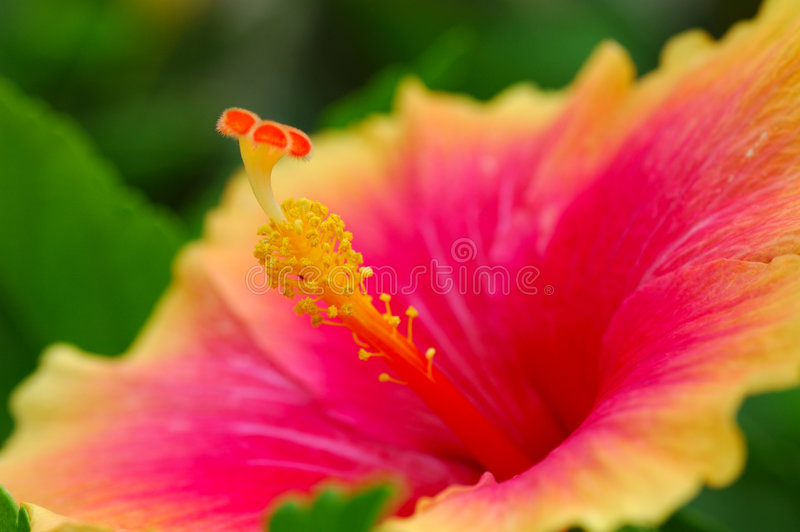Hibiscus: (16, 3, 792, 532)
